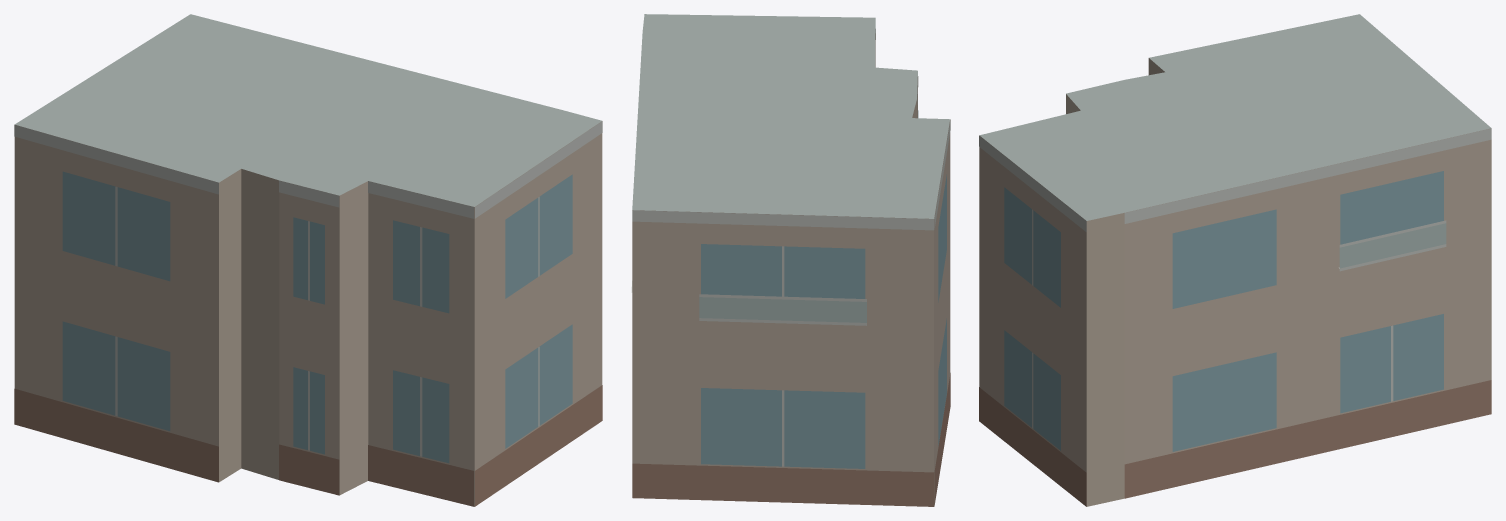
File: survey-upis-32805891.glb
3 renders of one model, left to right at view 1: azimuth 30°, elevation 25°; view 2: azimuth 150°, elevation 25°; view 3: azimuth 270°, elevation 25°, orthographic. The views are drawn at different scales.
Parts seen in each view (by area): view 1: survey-upis-32805891.tmp; view 2: survey-upis-32805891.tmp; view 3: survey-upis-32805891.tmp.
Part boxes in pixels (bbox=[...]): survey-upis-32805891.tmp: bbox=[14, 14, 602, 506]; survey-upis-32805891.tmp: bbox=[631, 14, 950, 506]; survey-upis-32805891.tmp: bbox=[979, 14, 1491, 506].
Size of the model in its own units: 9.48 by 6.1 by 9.92.
